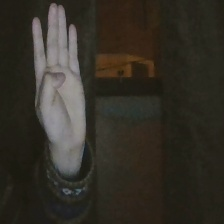B: (29, 3, 93, 152)
